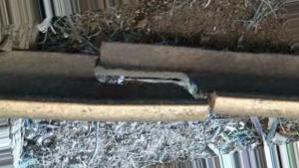tracks_fault: (67, 27, 241, 139)
